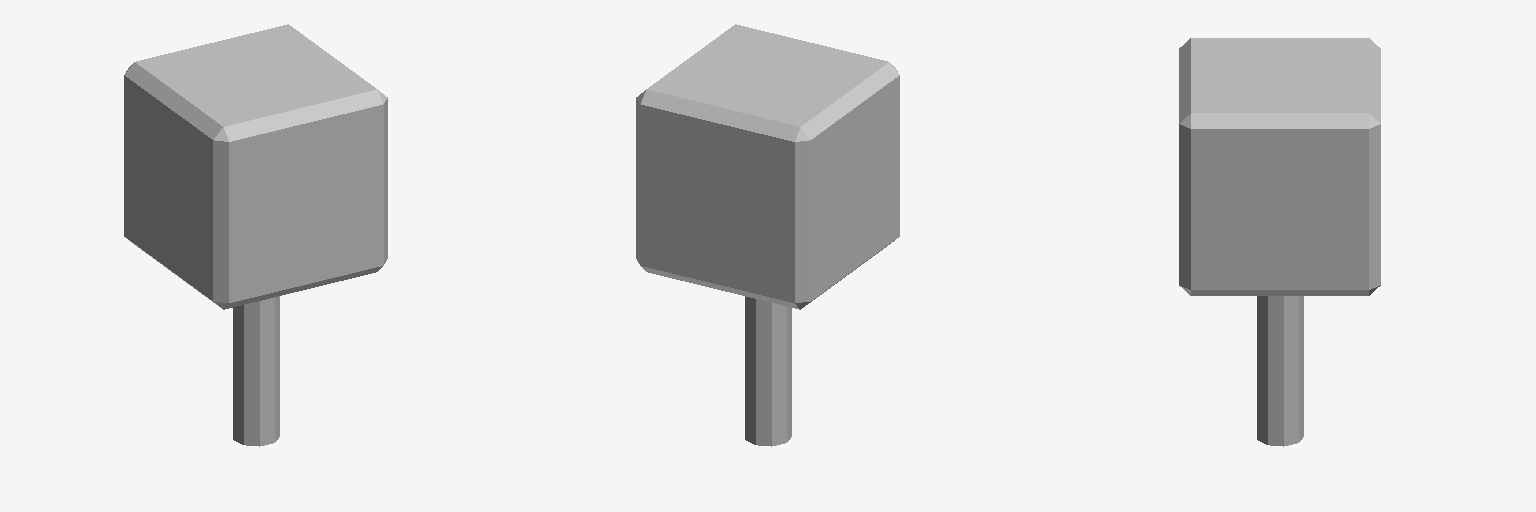
Rendered from Simple_Tree_1.obj.
3 renders of one model, left to right at view 1: azimuth 30°, elevation 25°; view 2: azimuth 150°, elevation 25°; view 3: azimuth 270°, elevation 25°, orthographic.
Parts seen in each view (by area): view 1: Simple_Tree_1_Cylinder.003; view 2: Simple_Tree_1_Cylinder.003; view 3: Simple_Tree_1_Cylinder.003.
Part boxes in pixels (x1,y1,x2,y2): Simple_Tree_1_Cylinder.003: (124,24,387,446); Simple_Tree_1_Cylinder.003: (636,24,899,446); Simple_Tree_1_Cylinder.003: (1179,38,1380,446).
Size of the model in its own units: 2.42 by 4.78 by 2.42.